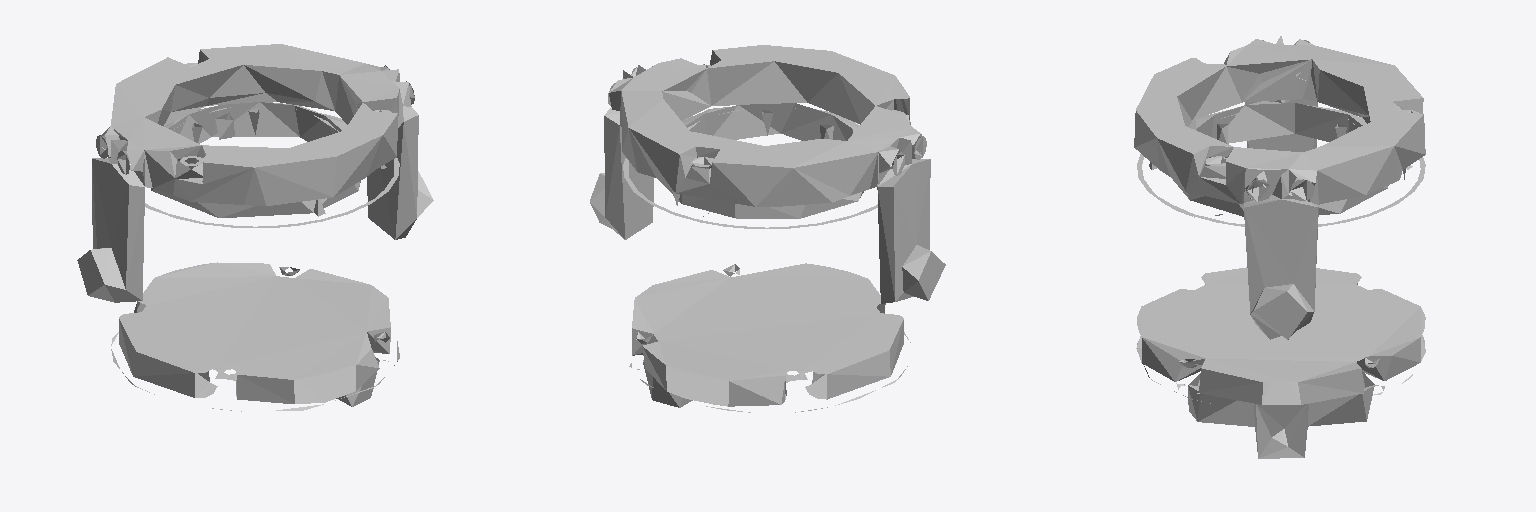
3 renders of one model, left to right at view 1: azimuth 30°, elevation 25°; view 2: azimuth 150°, elevation 25°; view 3: azimuth 270°, elevation 25°, orthographic.
Parts seen in each view (by area): view 1: link6_1; view 2: link6_1; view 3: link6_1.
Part boxes in pixels (left/top/right/bottom): link6_1: left=77, top=44, right=433, bottom=411; link6_1: left=590, top=45, right=945, bottom=412; link6_1: left=1134, top=36, right=1425, bottom=458.
Size of the model in its own units: 75.04 by 65.8 by 57.58.